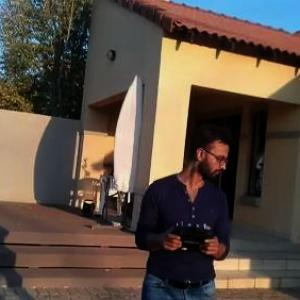follow: (130, 115, 237, 299)
